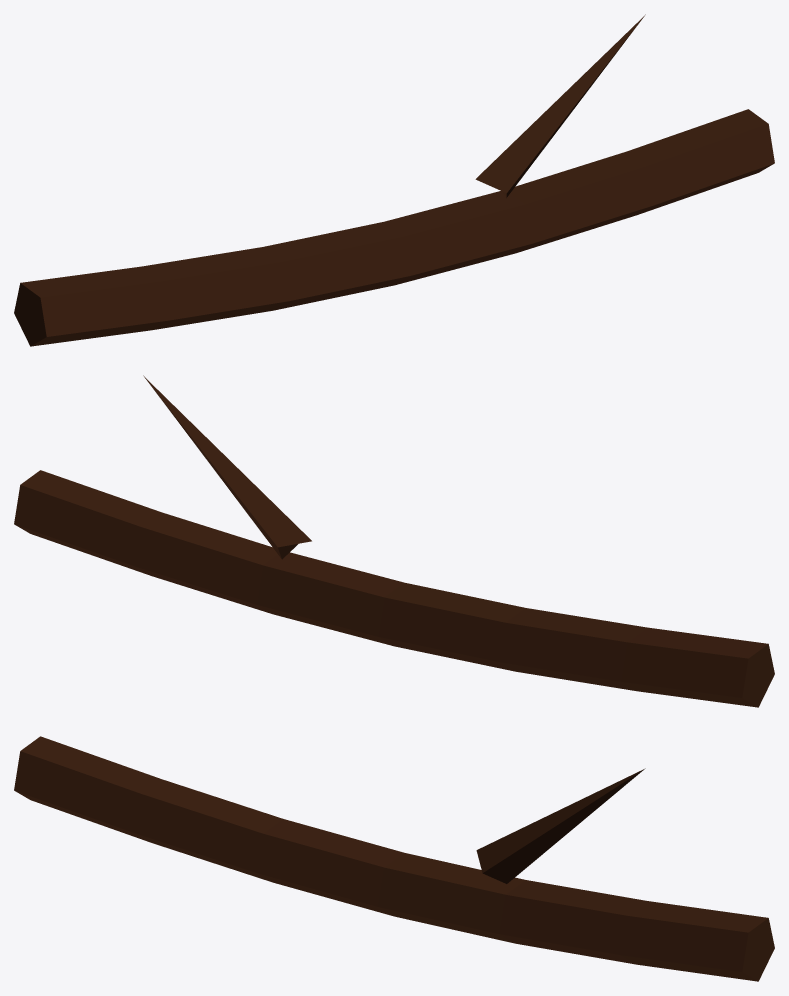
File: stick.obj
The picture shows the model from 3 angles, top to bottom: view 1: azimuth 30°, elevation 25°; view 2: azimuth 150°, elevation 25°; view 3: azimuth 330°, elevation 25°; orthographic projection.
Parts seen in each view (by area): view 1: Stick; view 2: Stick; view 3: Stick.
Part boxes in pixels (box(x1,y1,x2,y2)): Stick: box(14, 14, 774, 346); Stick: box(14, 375, 774, 707); Stick: box(14, 736, 774, 981).
Bounding box in the file's own units: 2.2 × 0.6055 × 0.1712.
